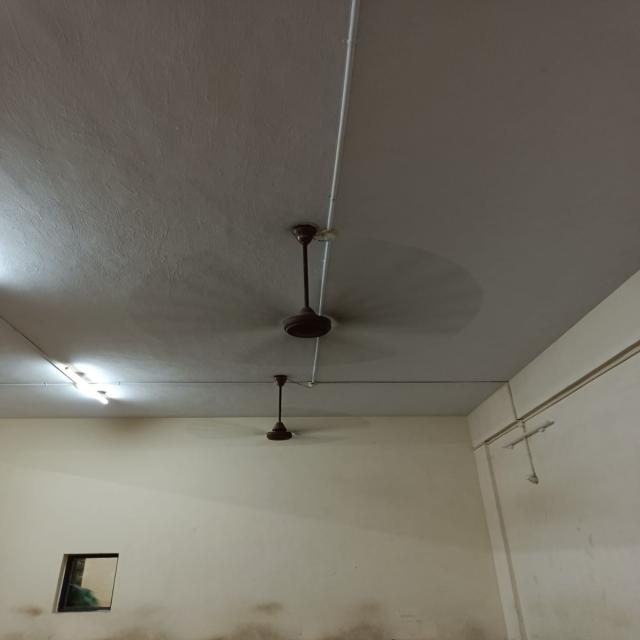fan_on: (132, 219, 479, 371), (186, 375, 372, 460)
tubelight_on: (41, 356, 126, 415)
